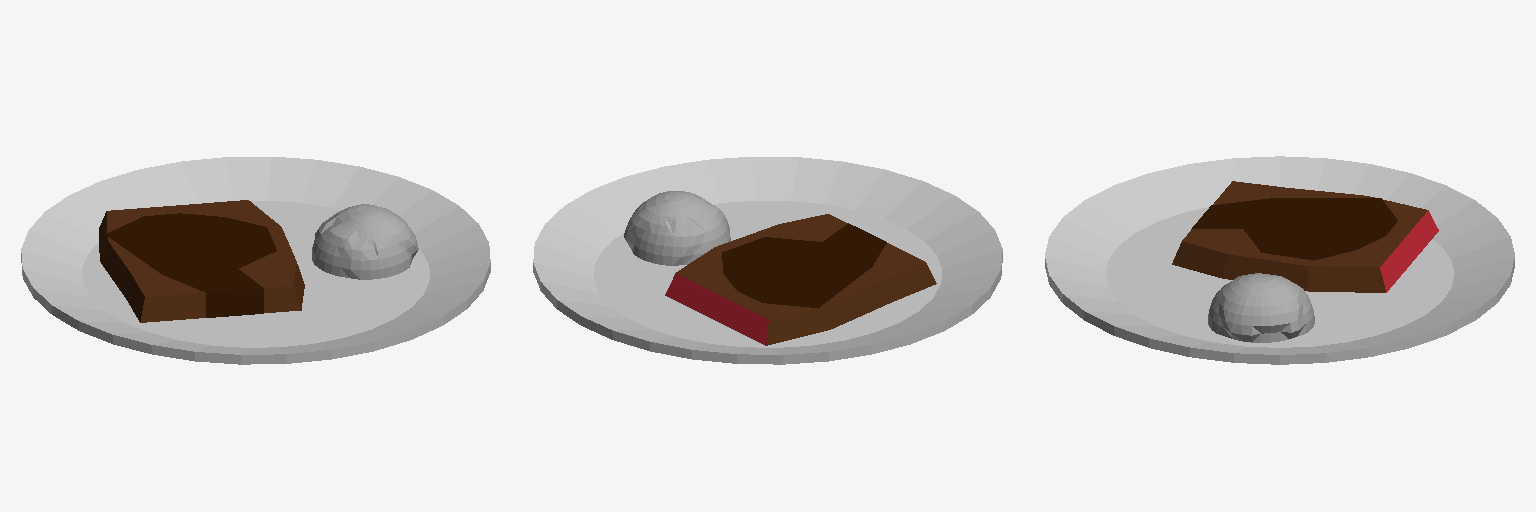
File: steak.obj
The picture shows the model from 3 angles: view 1: azimuth 30°, elevation 25°; view 2: azimuth 150°, elevation 25°; view 3: azimuth 270°, elevation 25°; orthographic projection.
Parts seen in each view (by area): view 1: Steak_Cylinder.011; view 2: Steak_Cylinder.011; view 3: Steak_Cylinder.011.
Part boxes in pixels (x1,y1,x2,y2): Steak_Cylinder.011: (21, 157, 490, 364); Steak_Cylinder.011: (533, 157, 1002, 364); Steak_Cylinder.011: (1045, 156, 1514, 364).
Size of the model in its own units: 0.1617 by 0.0212 by 0.1617.